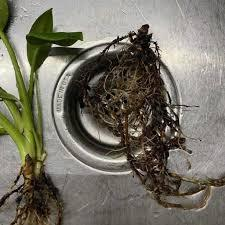root_rot: (0, 13, 200, 208)
